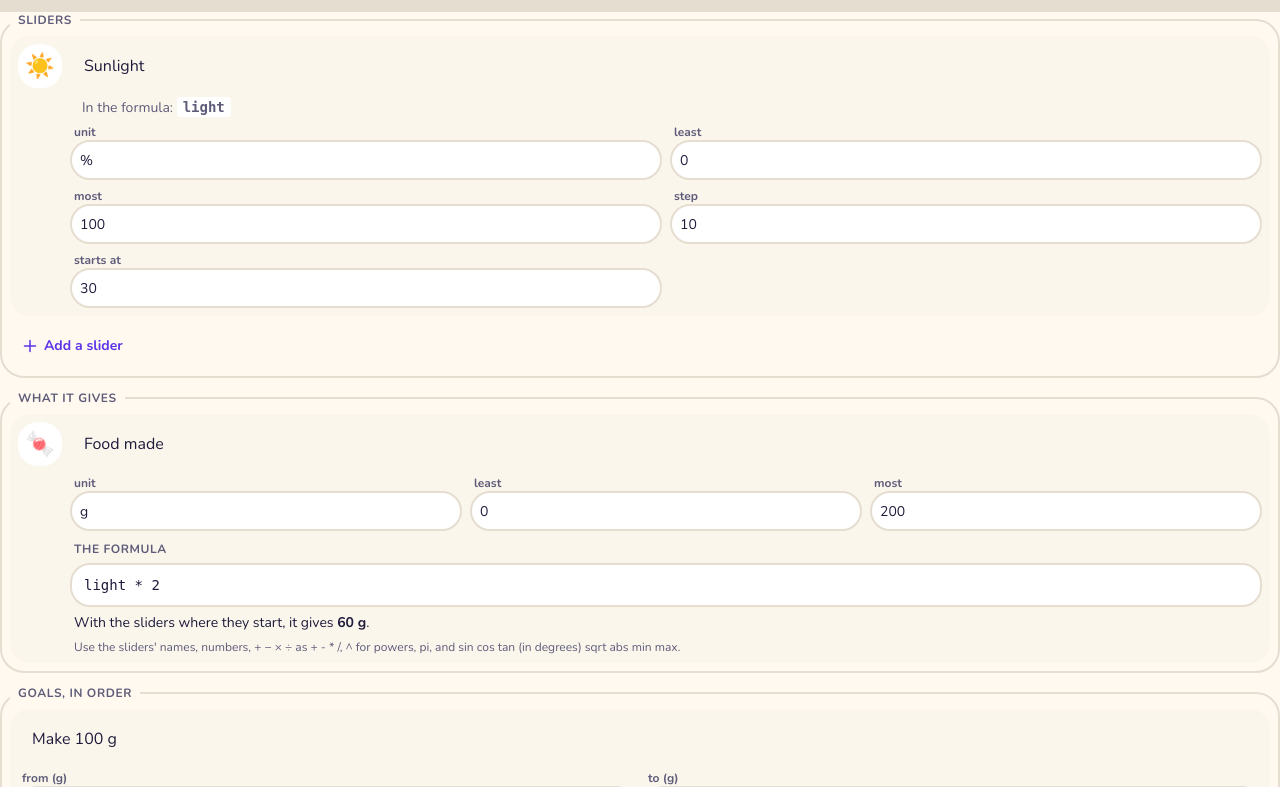
Test: the Lab editor › checks the formula as it is typed, with the sliders where they start
Expected: the message shows "it gives 60 g", [74, 613, 370, 632]
Replace the text in the field labelled "The formula" with "light * " at (666, 585), box [70, 563, 1262, 607]
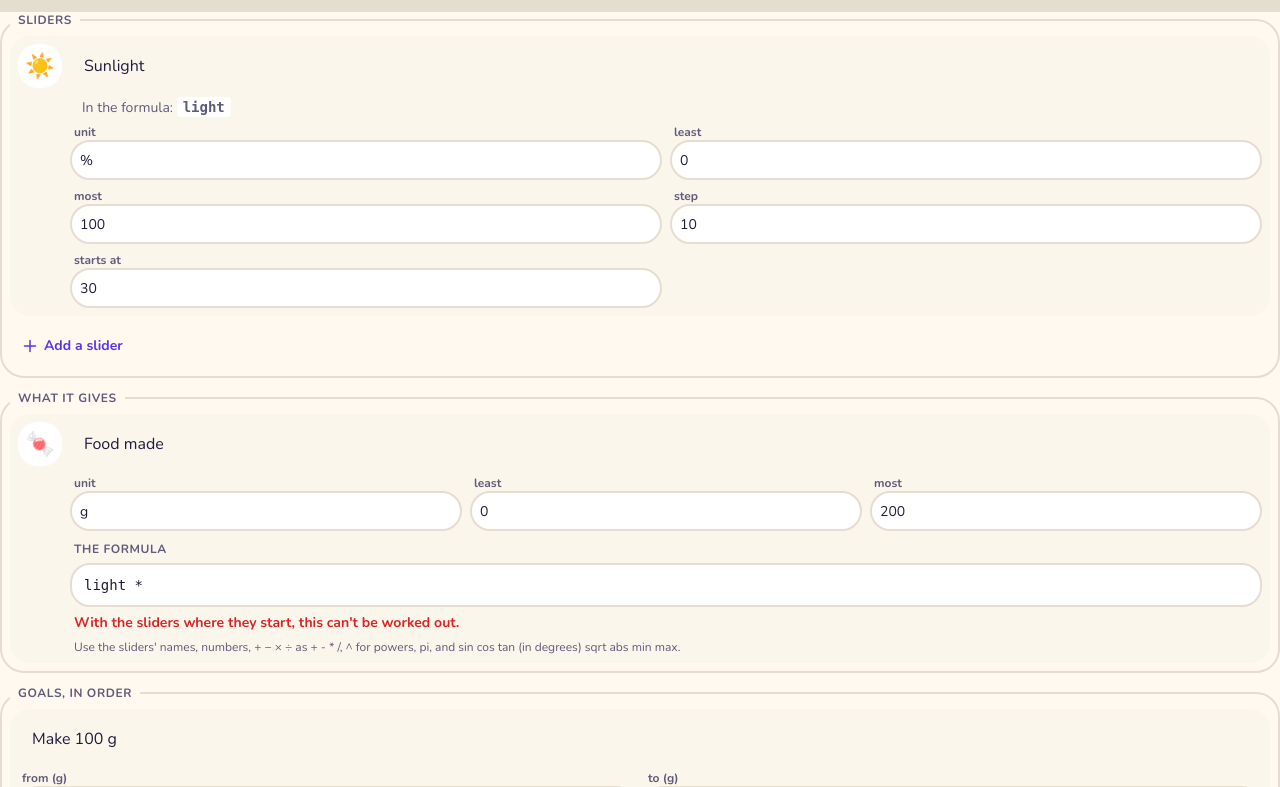
Now the message shows "can't be worked out", box [74, 613, 459, 632]
